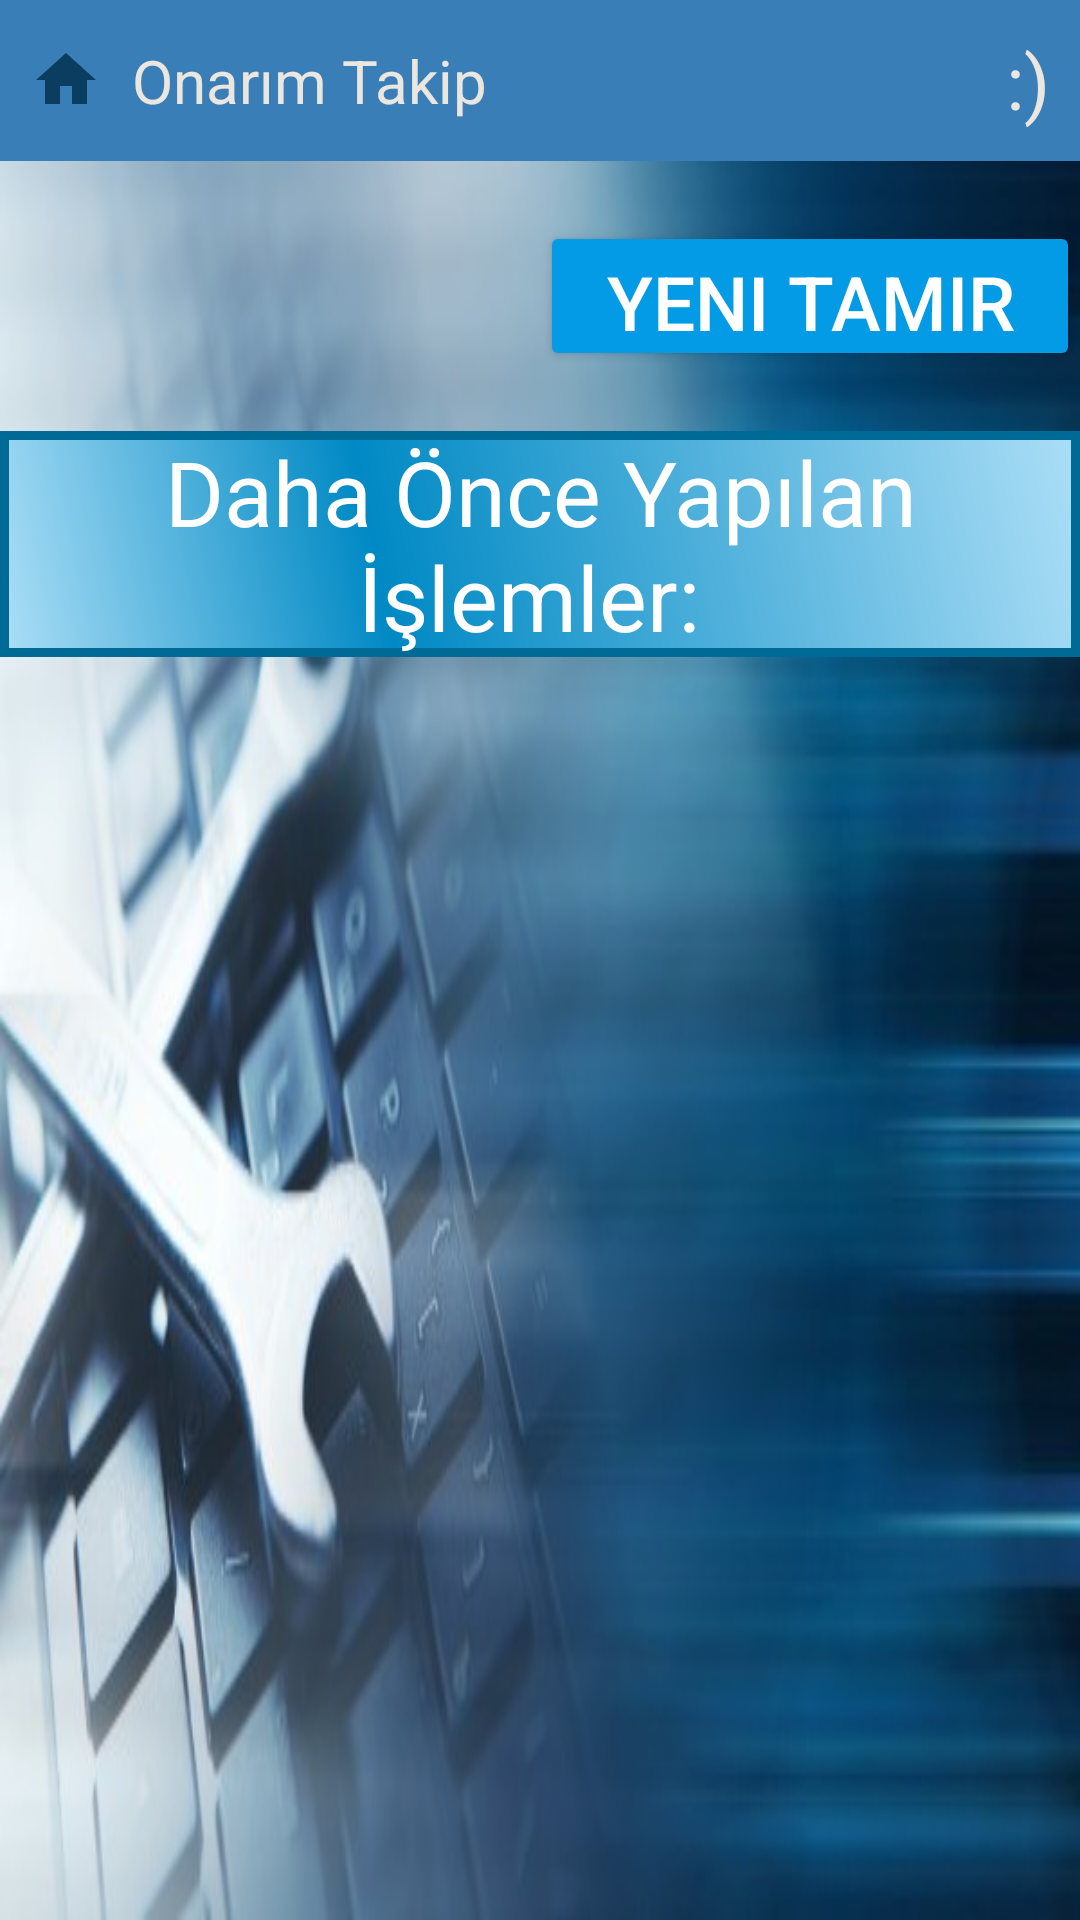

Point at icon controls on the screen. Image size 1080 x 1920, points as [x,y].
home: [66,78]
